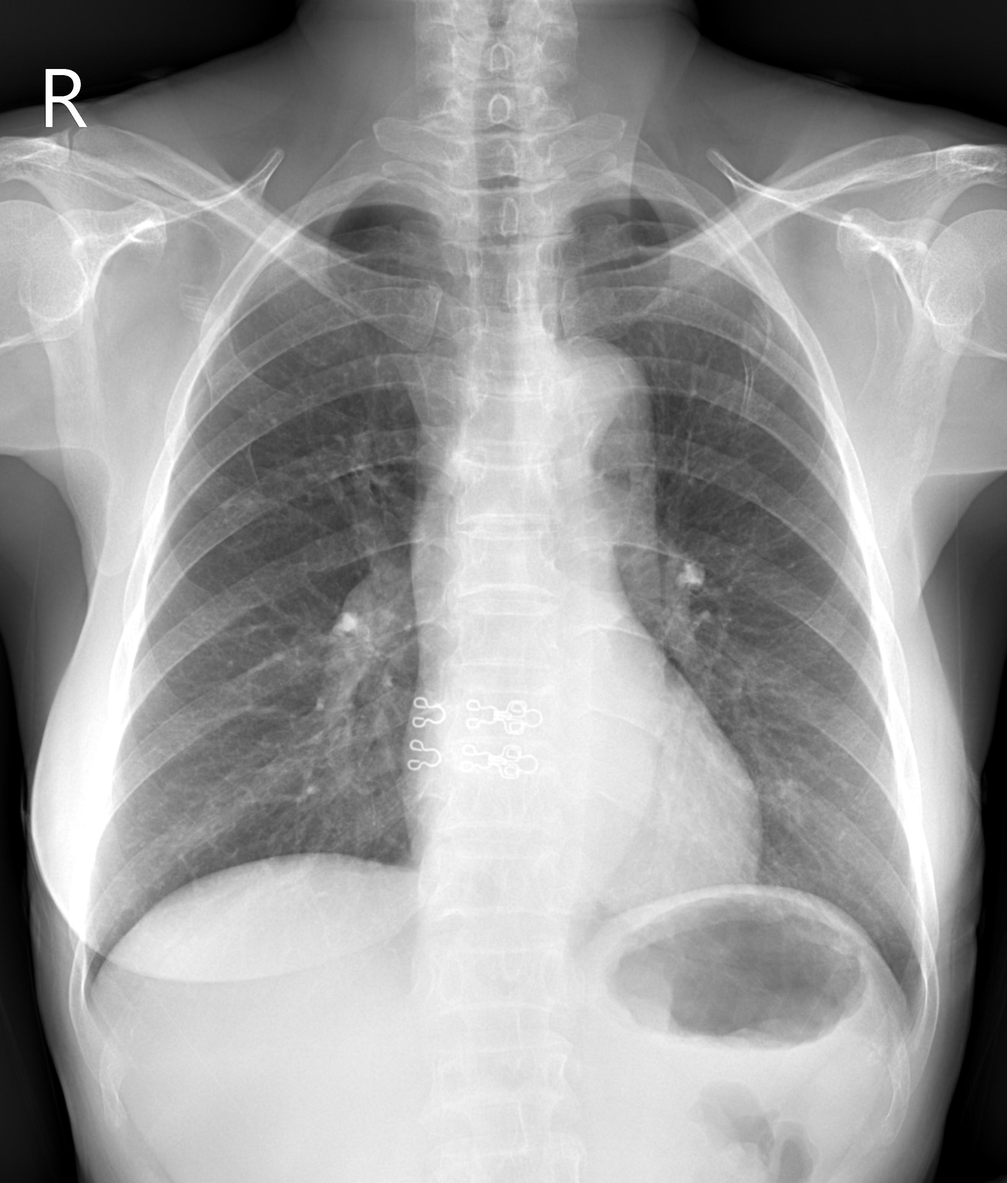Aortic enlargement: (511, 334, 655, 489)
Pleural thickening: (551, 196, 703, 240)
Pulmonary fibrosis: (736, 299, 777, 411)
